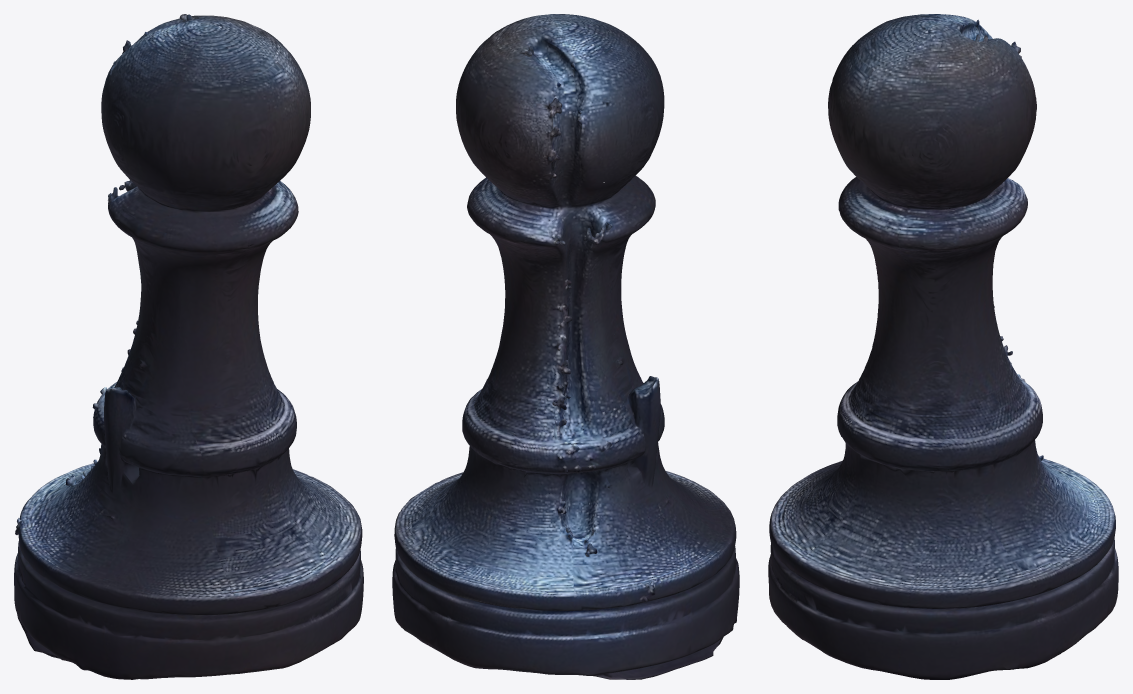
File: pawn.glb
3 renders of one model, left to right at view 1: azimuth 30°, elevation 25°; view 2: azimuth 150°, elevation 25°; view 3: azimuth 270°, elevation 25°, orthographic.
Visible parts, largest first — view 1: tripo_node_37b7ac2a-8d0e-46f3-9f65-9363022f8293; view 2: tripo_node_37b7ac2a-8d0e-46f3-9f65-9363022f8293; view 3: tripo_node_37b7ac2a-8d0e-46f3-9f65-9363022f8293.
Boxes of the visible parts, x1,y1,x2,y2 form: tripo_node_37b7ac2a-8d0e-46f3-9f65-9363022f8293: (14, 14, 363, 679); tripo_node_37b7ac2a-8d0e-46f3-9f65-9363022f8293: (392, 14, 739, 679); tripo_node_37b7ac2a-8d0e-46f3-9f65-9363022f8293: (768, 14, 1118, 679).
Size of the model in its own units: 0.5263 by 0.9786 by 0.5258.
Materials: 1 (1 with a texture image).
